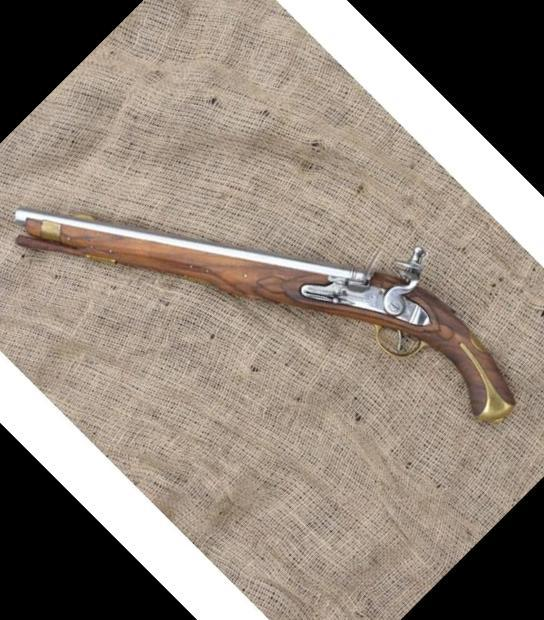larga: (14, 206, 516, 425)
